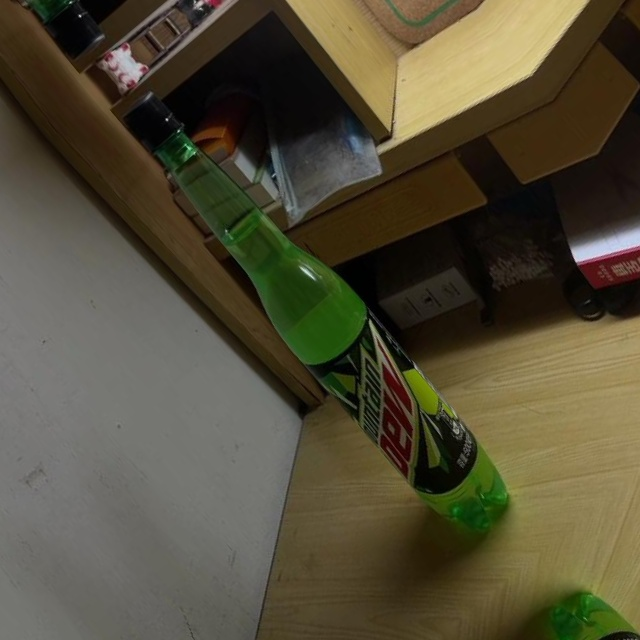Mountain-Dew: (101, 69, 525, 552)
